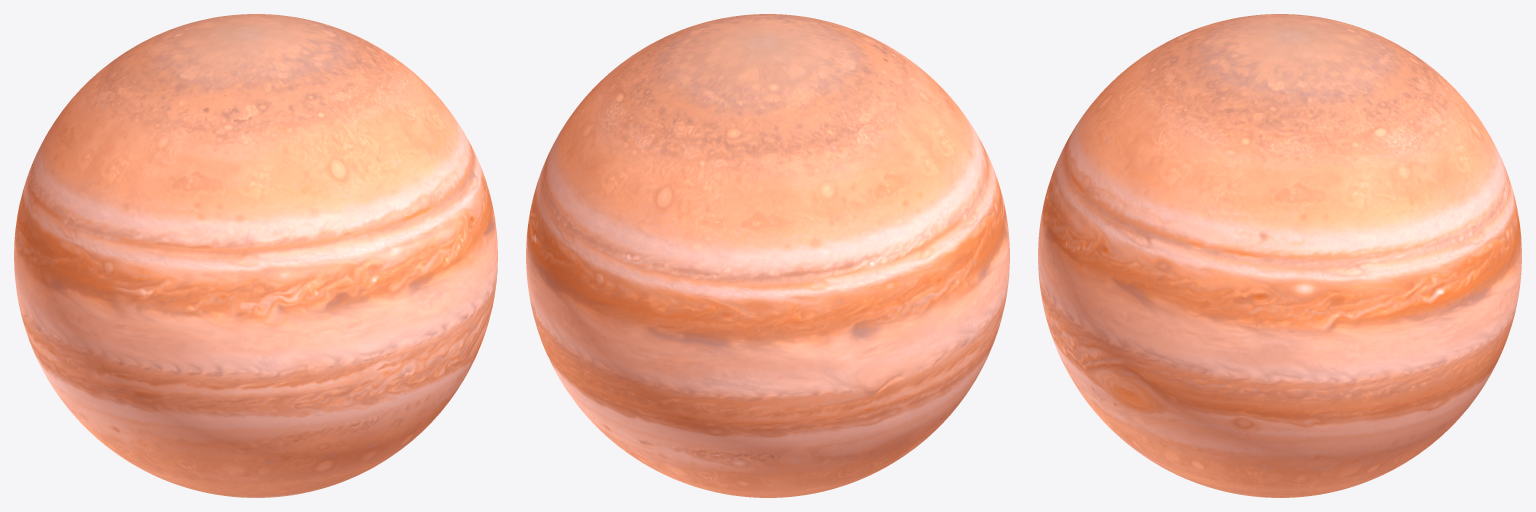
3 views of the same model, side by side, from view 1: azimuth 30°, elevation 25°; view 2: azimuth 150°, elevation 25°; view 3: azimuth 270°, elevation 25° (orthographic).
Visible parts, largest first — view 1: Jupiter_3; view 2: Jupiter_3; view 3: Jupiter_3.
Part boxes in pixels (x1,y1,x2,y2): Jupiter_3: [14, 14, 497, 497]; Jupiter_3: [526, 14, 1009, 497]; Jupiter_3: [1038, 14, 1521, 497].
Size of the model in its own units: 3.82 by 3.82 by 3.82.
Materials: 1 (1 with a texture image).
